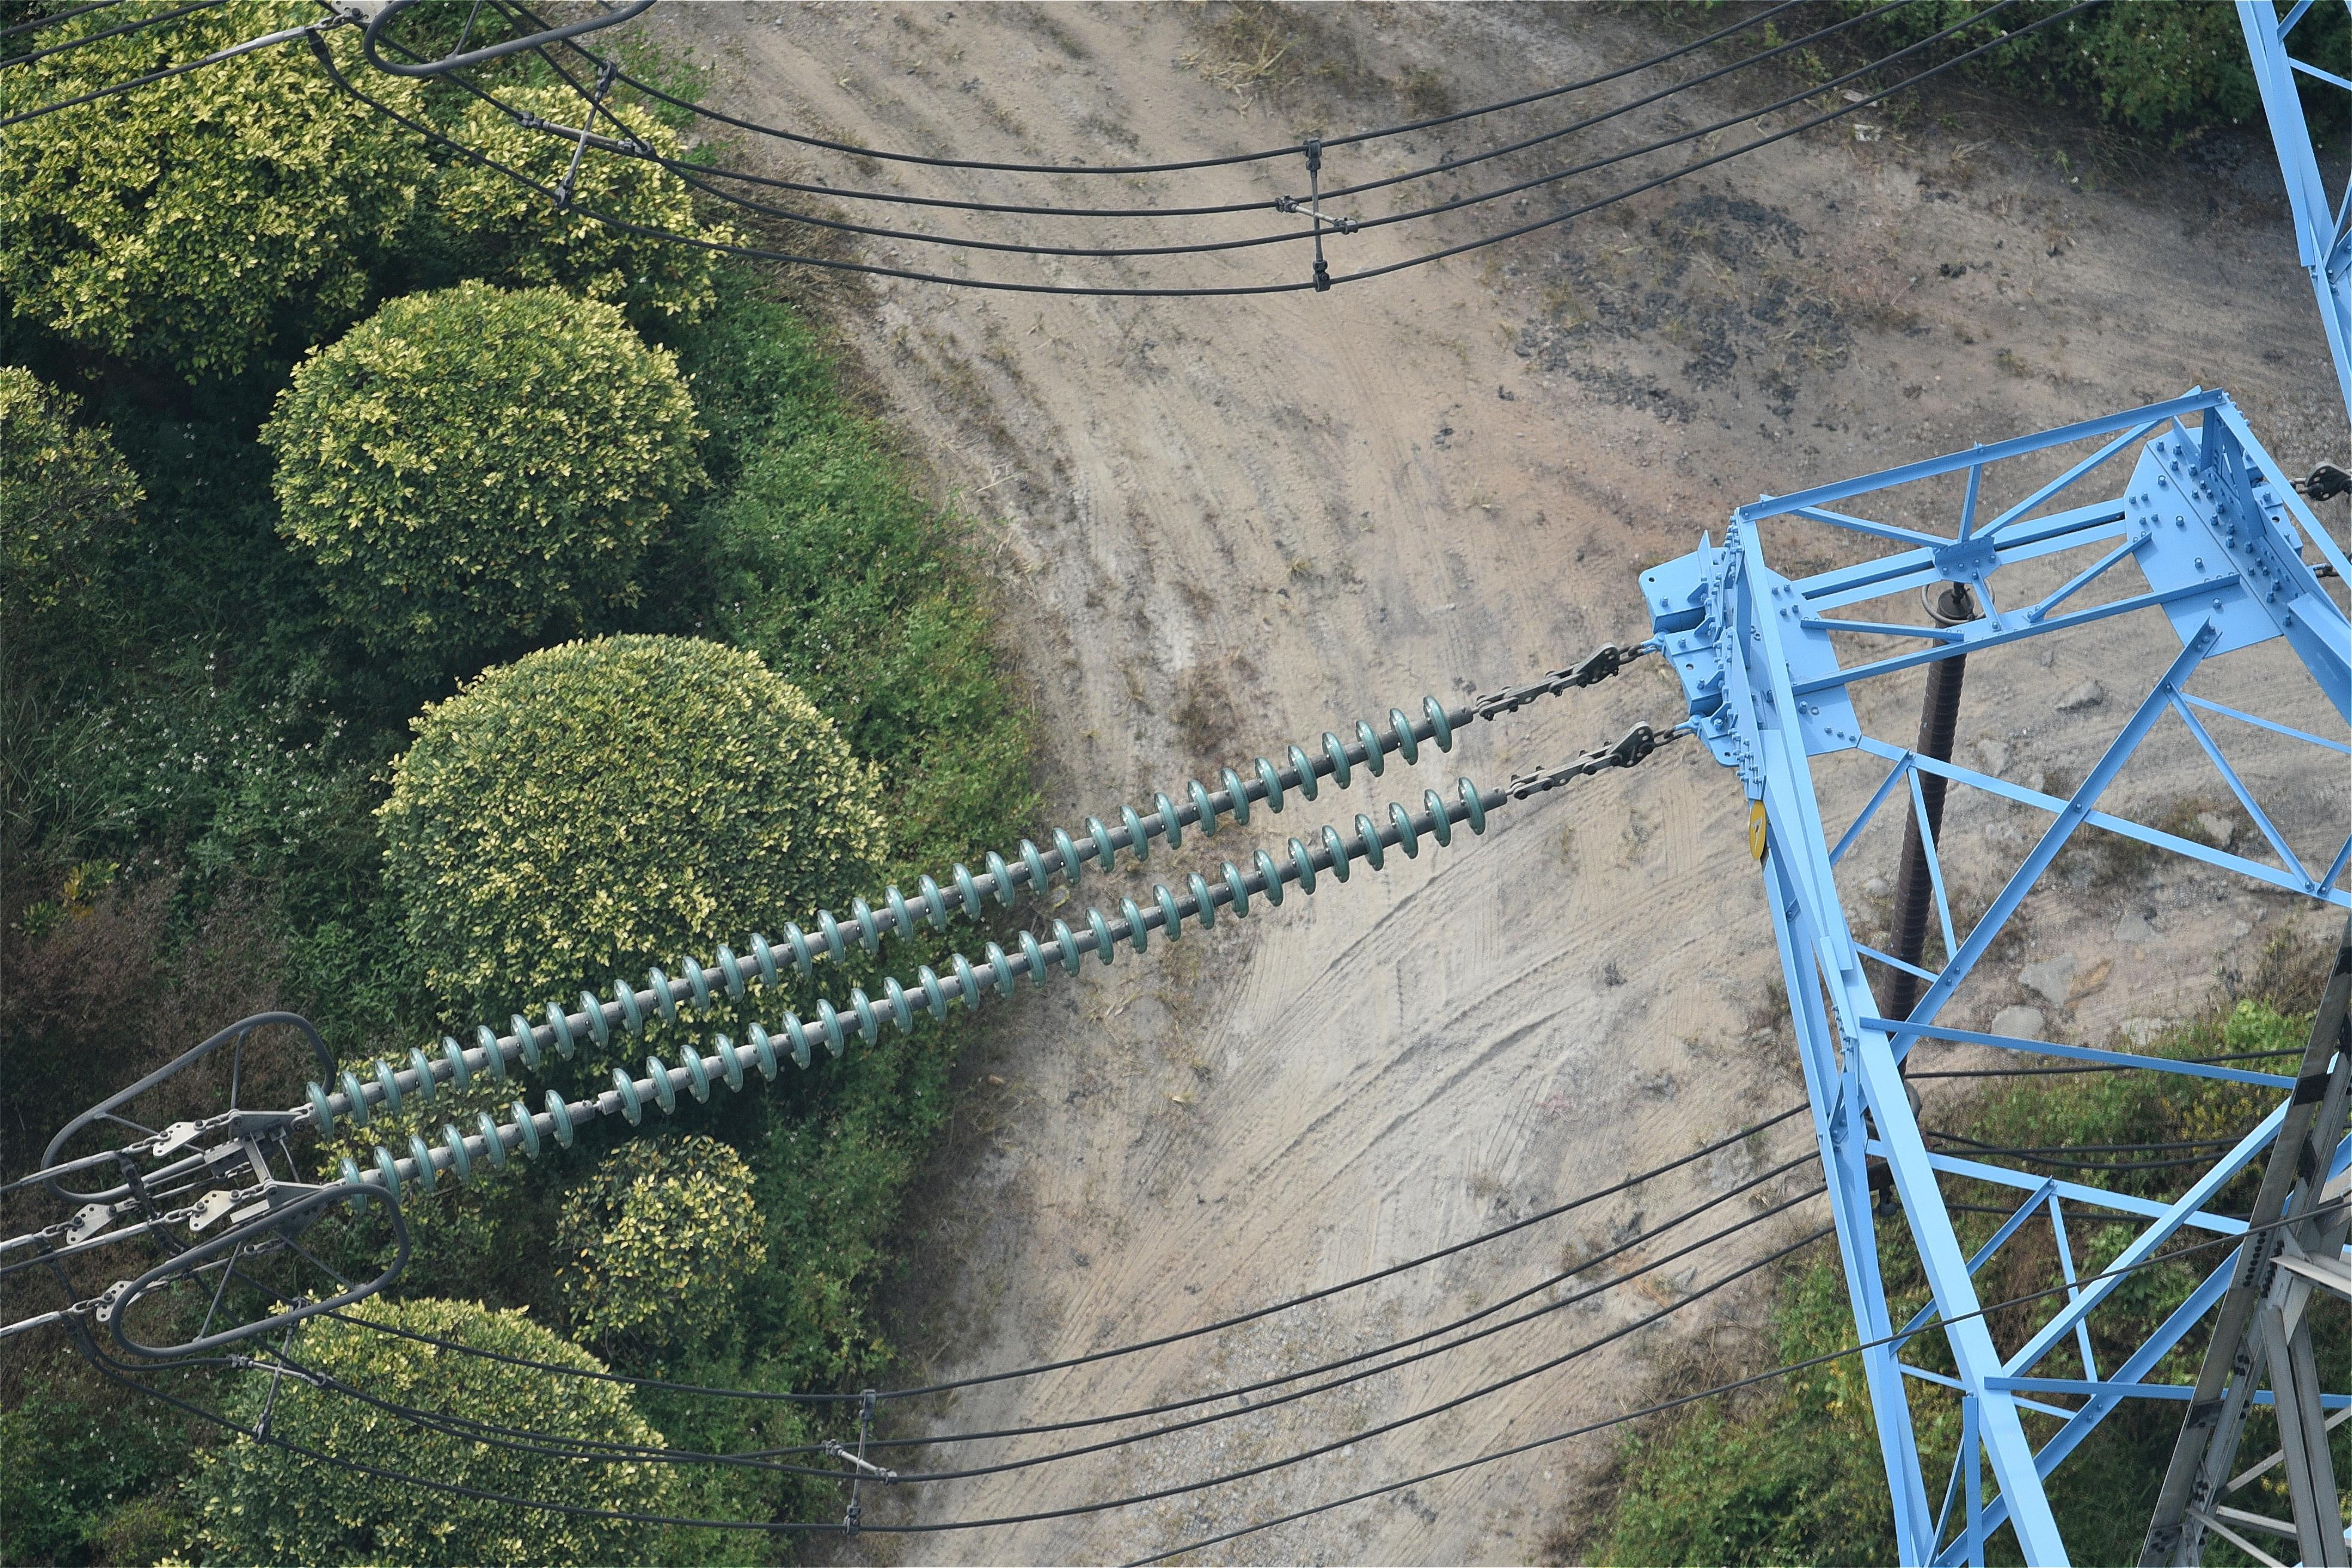insultor3: (243, 647, 1531, 1220)
